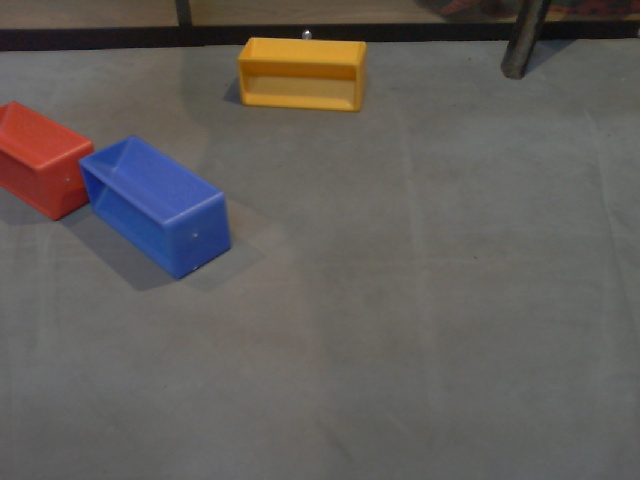BlueSample: (72, 134, 236, 287)
RedSample: (1, 97, 98, 224)
YellowSample: (233, 32, 371, 117)
